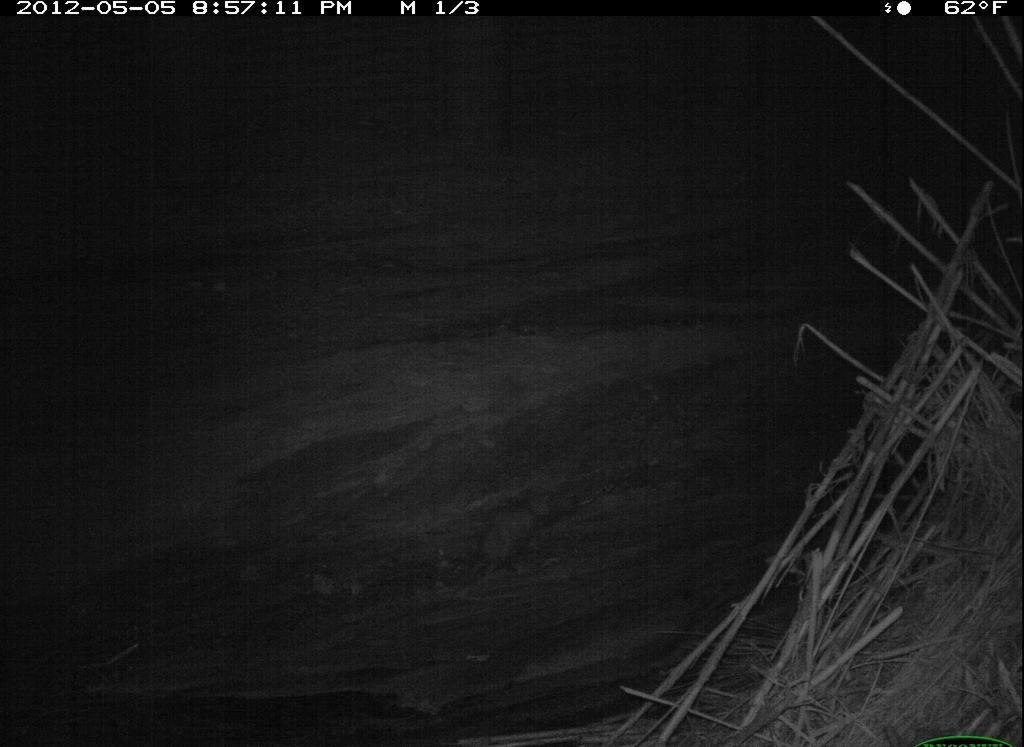opossum: (453, 485, 571, 591)
